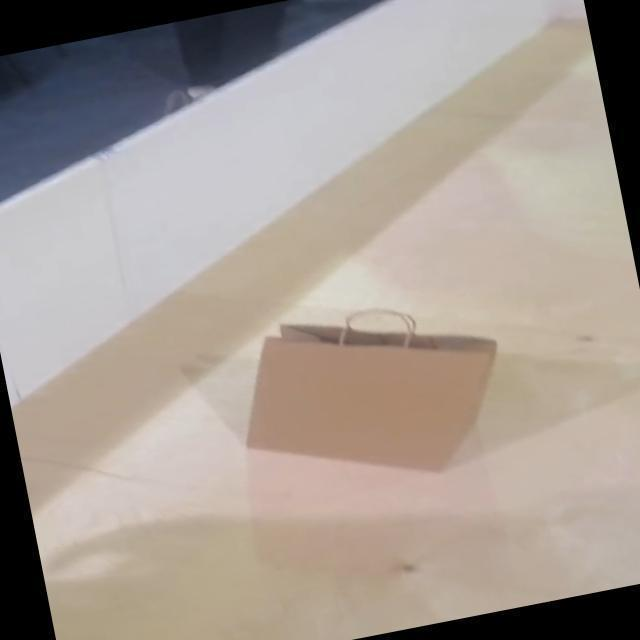Paper_Bag: (222, 284, 519, 508)
